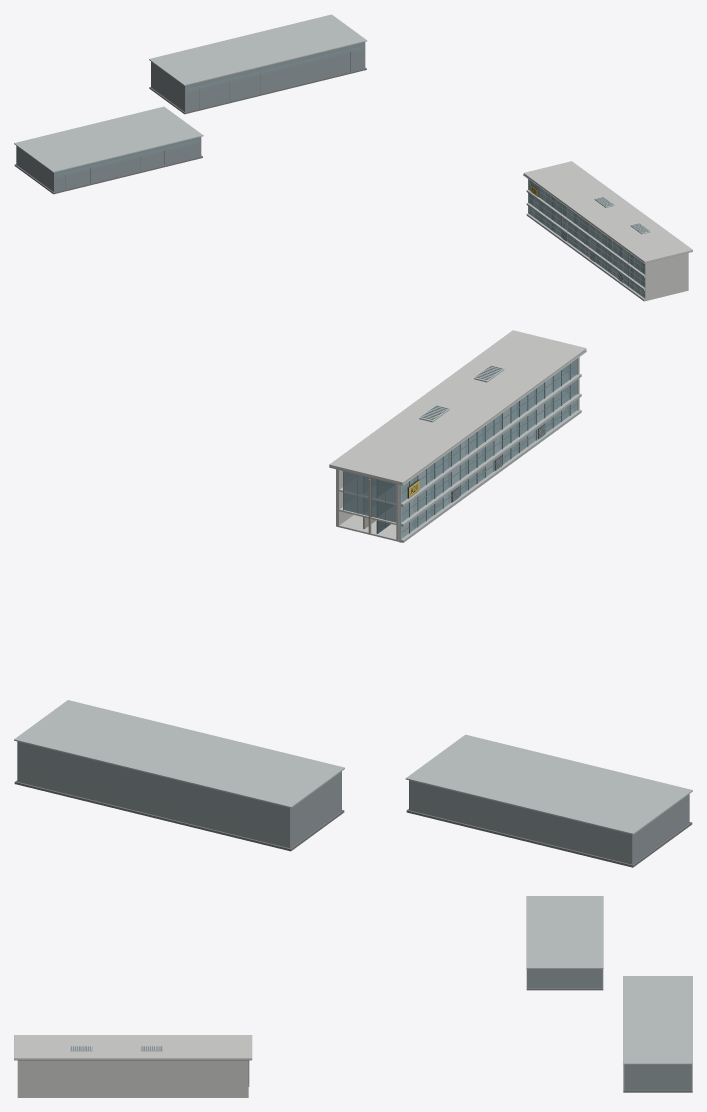
The model's file is terminal.glb.
The picture shows the model from 3 angles, top to bottom: view 1: azimuth 30°, elevation 25°; view 2: azimuth 150°, elevation 25°; view 3: azimuth 270°, elevation 25°; orthographic projection. The views are drawn at different scales.
Parts seen in each view (by area): view 1: Terminal_distant_original_hangars_Powder_coated_aluminium_ba, Terminal_distant_original_hangars_Distant_hangar_cladding_ba, Terminal_structure_Terminal_limestone_batch, Terminal_curtain_wall_Architectural_glass_batch, Terminal_structure_Powder_coated_aluminium_batch, Terminal_distant_original_hangars_Distant_hangar_concrete_fo, Terminal_distant_original_hangars_Architectural_glass_batch, Terminal_curtain_wall_Curtainwall_mullions_batch, Terminal_curtain_wall_Glass_sky_reflection_batch; view 2: Terminal_distant_original_hangars_Powder_coated_aluminium_ba, Terminal_distant_original_hangars_Distant_hangar_cladding_ba, Terminal_structure_Terminal_limestone_batch, Terminal_curtain_wall_Architectural_glass_batch, Terminal_structure_Powder_coated_aluminium_batch, Terminal_distant_original_hangars_Distant_hangar_concrete_fo, Terminal_curtain_wall_Curtainwall_mullions_batch, Terminal_curtain_wall_Glass_sky_reflection_batch; view 3: Terminal_structure_Terminal_limestone_batch, Terminal_distant_original_hangars_Powder_coated_aluminium_ba, Terminal_distant_original_hangars_Distant_hangar_cladding_ba, Terminal_distant_original_hangars_Distant_hangar_concrete_fo.
Part boxes in pixels (x1,y1,x2,y2): Terminal_distant_original_hangars_Powder_coated_aluminium_ba: (14, 14, 367, 172); Terminal_distant_original_hangars_Distant_hangar_cladding_ba: (16, 42, 365, 192); Terminal_structure_Terminal_limestone_batch: (523, 161, 692, 300); Terminal_curtain_wall_Architectural_glass_batch: (529, 180, 644, 294); Terminal_structure_Powder_coated_aluminium_batch: (523, 174, 650, 301); Terminal_distant_original_hangars_Distant_hangar_concrete_fo: (14, 67, 366, 194); Terminal_distant_original_hangars_Architectural_glass_batch: (55, 46, 363, 176); Terminal_curtain_wall_Curtainwall_mullions_batch: (528, 183, 644, 294); Terminal_curtain_wall_Glass_sky_reflection_batch: (529, 188, 644, 297); Terminal_distant_original_hangars_Powder_coated_aluminium_ba: (14, 700, 692, 834); Terminal_distant_original_hangars_Distant_hangar_cladding_ba: (17, 741, 689, 864); Terminal_structure_Terminal_limestone_batch: (329, 330, 586, 541); Terminal_curtain_wall_Architectural_glass_batch: (344, 359, 577, 532); Terminal_structure_Powder_coated_aluminium_batch: (399, 351, 586, 542); Terminal_distant_original_hangars_Distant_hangar_concrete_fo: (14, 780, 692, 867); Terminal_curtain_wall_Curtainwall_mullions_batch: (343, 364, 577, 533); Terminal_curtain_wall_Glass_sky_reflection_batch: (401, 377, 577, 538); Terminal_structure_Terminal_limestone_batch: (14, 1035, 252, 1097); Terminal_distant_original_hangars_Powder_coated_aluminium_ba: (526, 896, 692, 1064); Terminal_distant_original_hangars_Distant_hangar_cladding_ba: (527, 969, 691, 1090); Terminal_distant_original_hangars_Distant_hangar_concrete_fo: (526, 969, 692, 1092).
Size of the model in its own units: 116 by 12.87 by 182.
